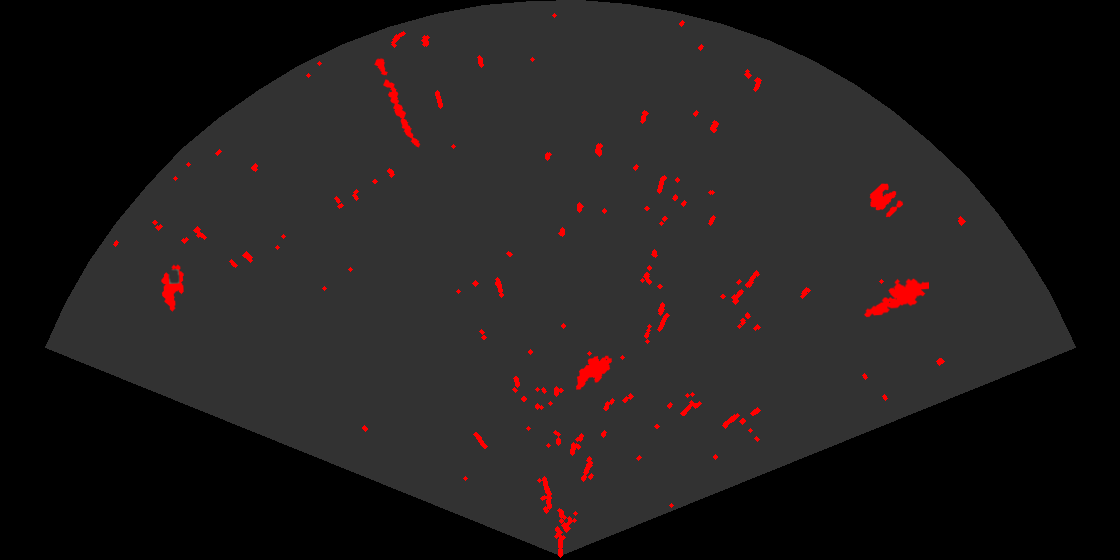AUV: (574, 354, 614, 391), (160, 263, 185, 313)
ball: (868, 182, 905, 219)
chain: (373, 56, 422, 149)
frogman: (862, 277, 929, 319)
